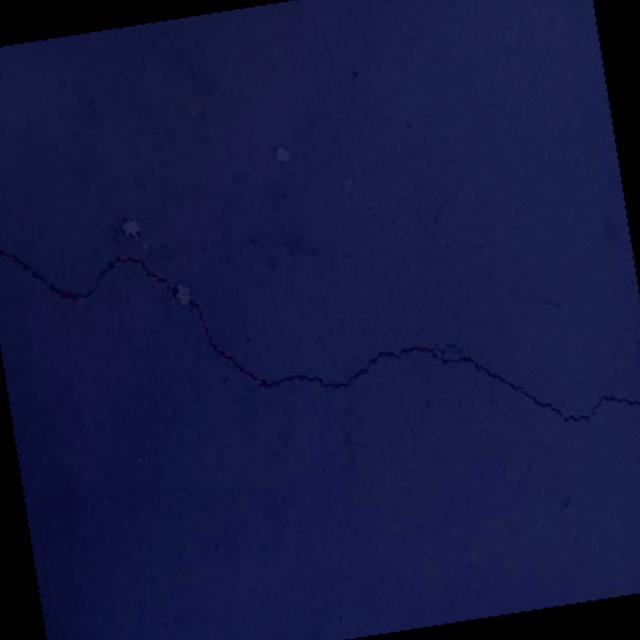crack: (0, 124, 640, 511), (597, 337, 640, 384)
